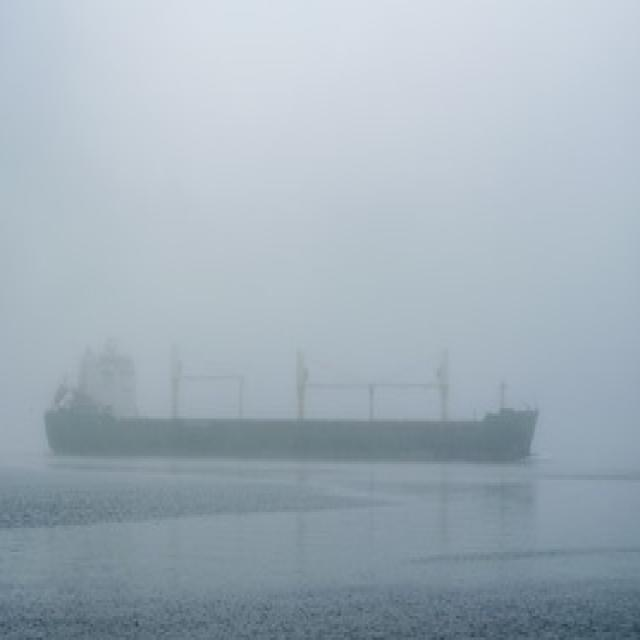cargoship: (43, 333, 546, 464)
